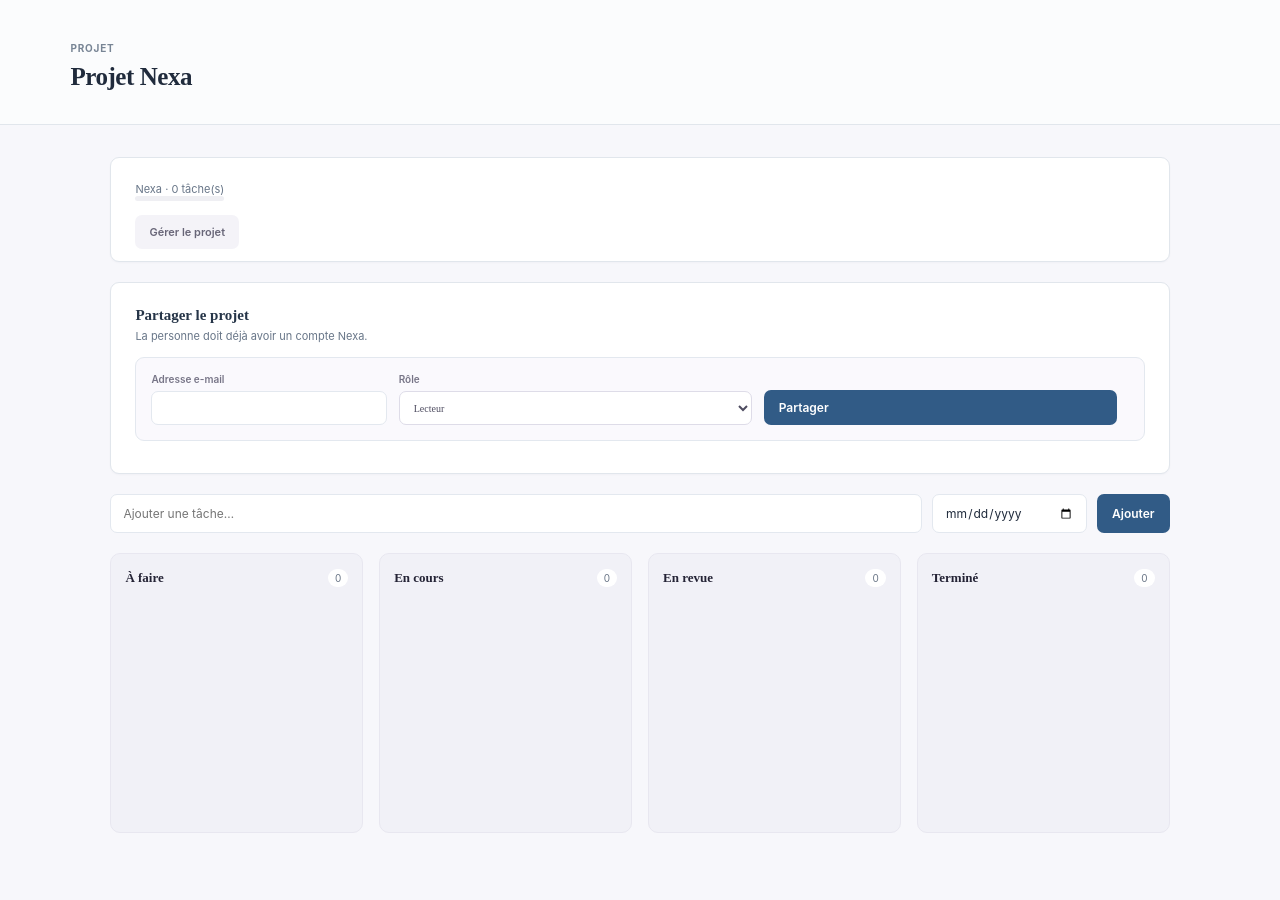
shares a project using the selected permission role
Select "Développeur" in the dropdown labelled "Rôle": {"x": 575, "y": 408} [399,391,752,425]
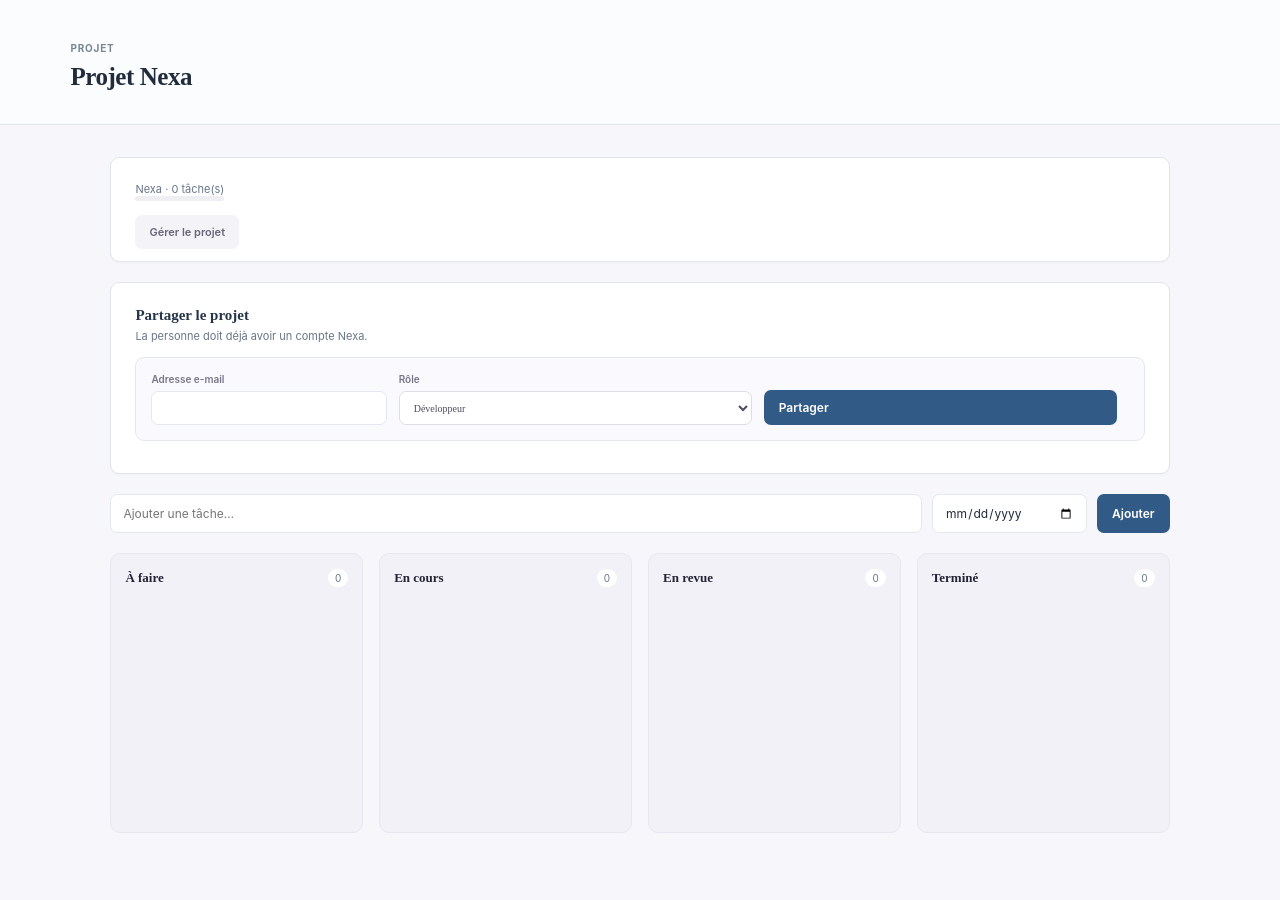
In the field labelled "Adresse e-mail": {"x": 269, "y": 408} [151,391,387,425], type "camille@example.test"
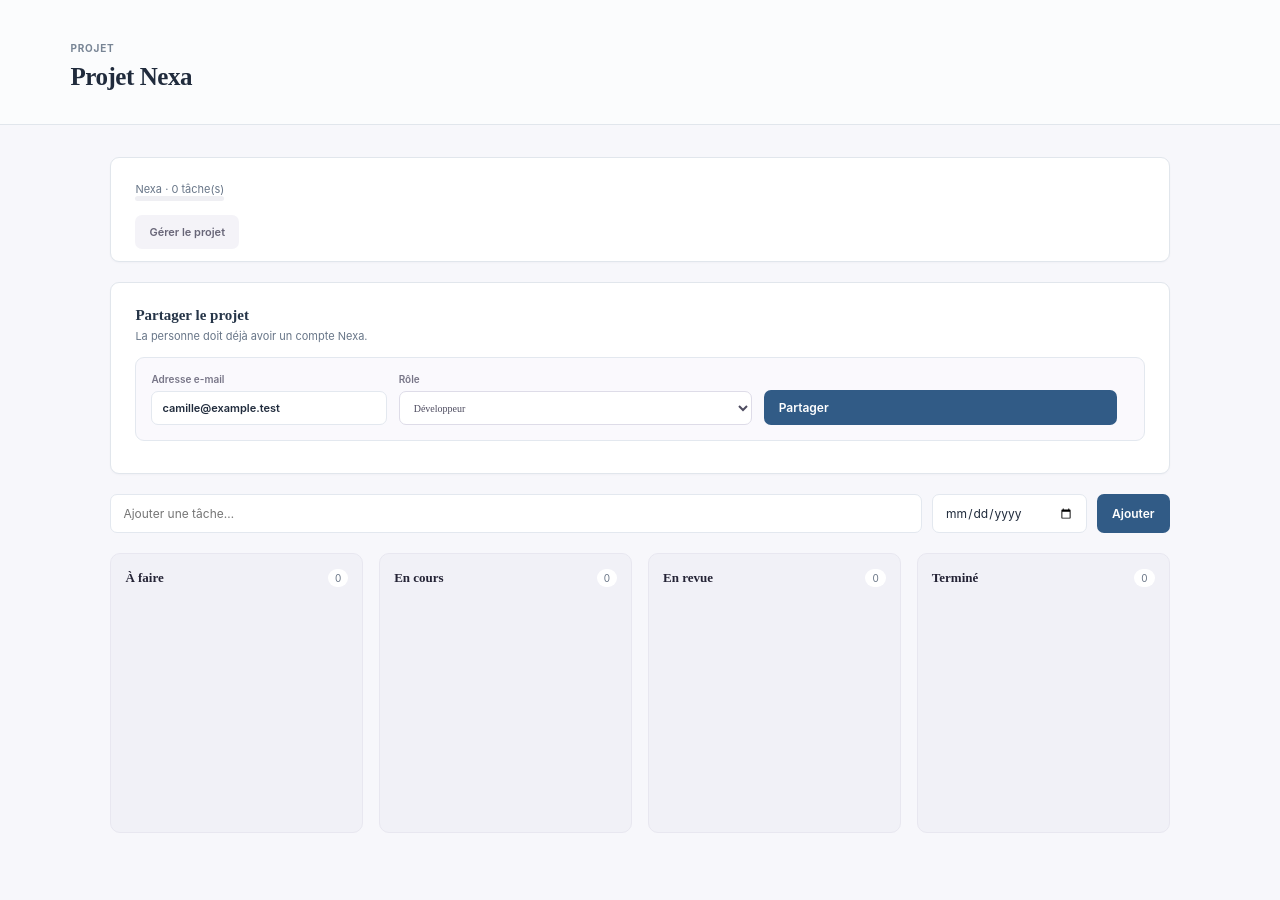
Click the button "Partager": {"x": 804, "y": 408} [764,390,1117,425]
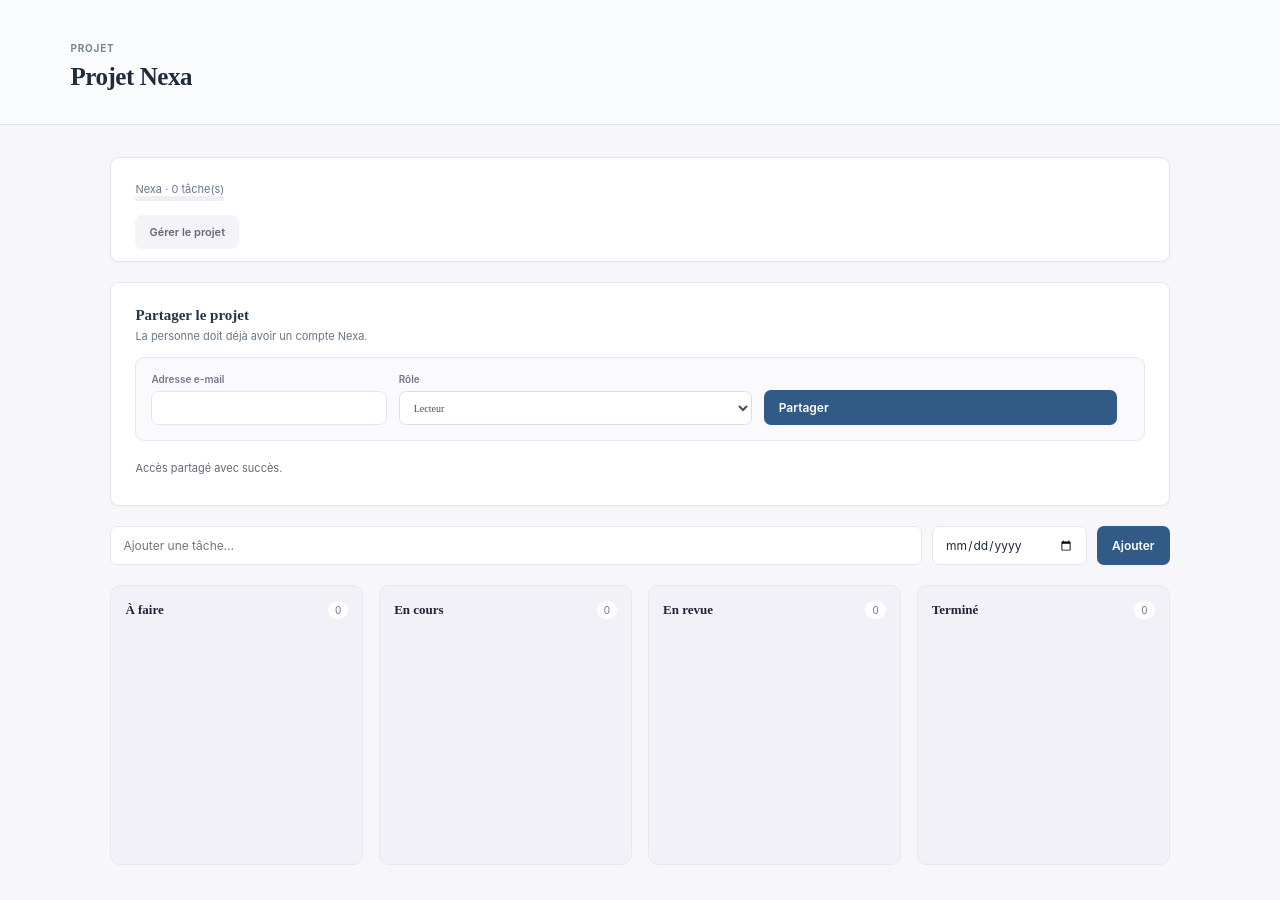
Now the message reads "Accès partagé avec succès.", box [135,461,282,475]
